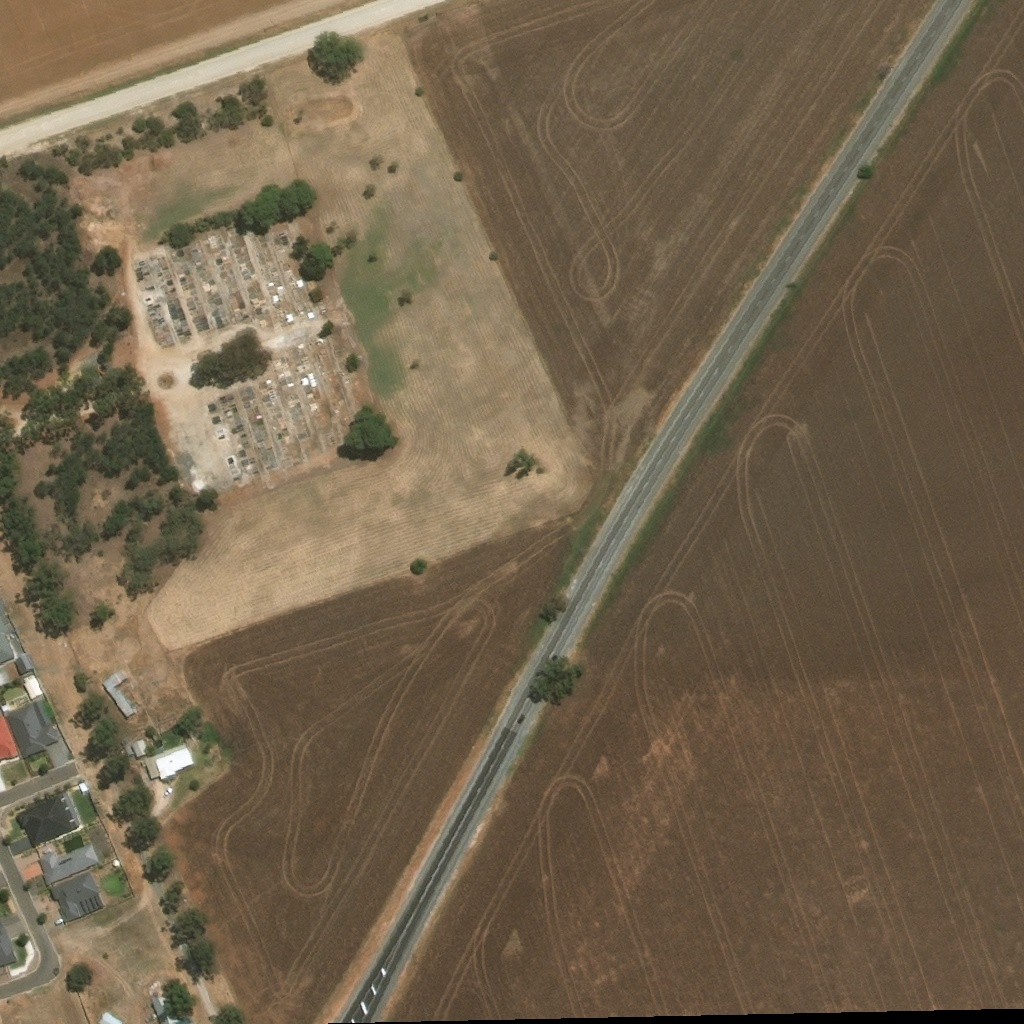0 no-damage: (14, 791, 77, 848), (4, 699, 57, 758), (49, 870, 102, 922), (36, 843, 99, 886), (142, 743, 192, 783), (100, 669, 133, 719), (149, 995, 179, 1020), (21, 674, 42, 699), (129, 738, 149, 760), (77, 783, 87, 793), (111, 860, 118, 866)
4 un-classified: (11, 692, 29, 707)
